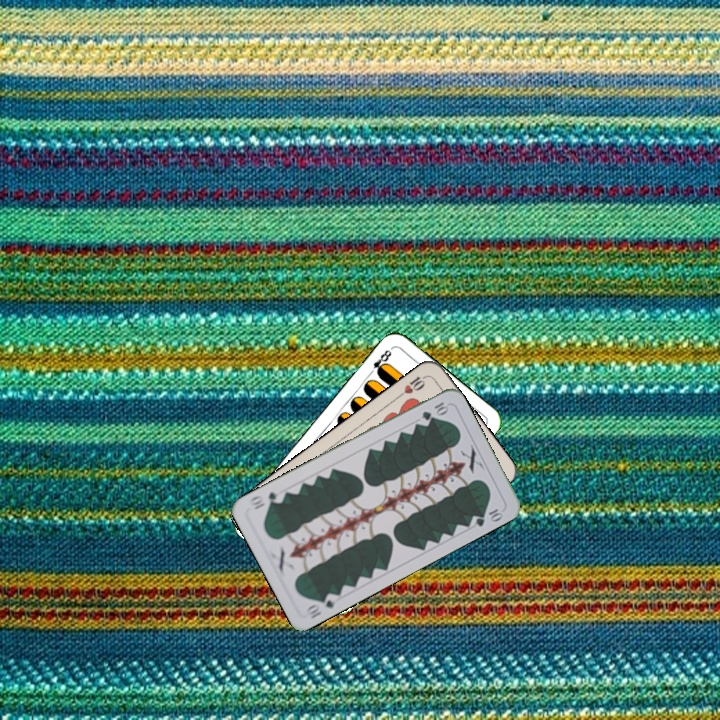E8: (365, 344, 395, 378)
G10: (303, 589, 341, 621), (418, 398, 451, 423)
H10: (394, 372, 429, 400)
